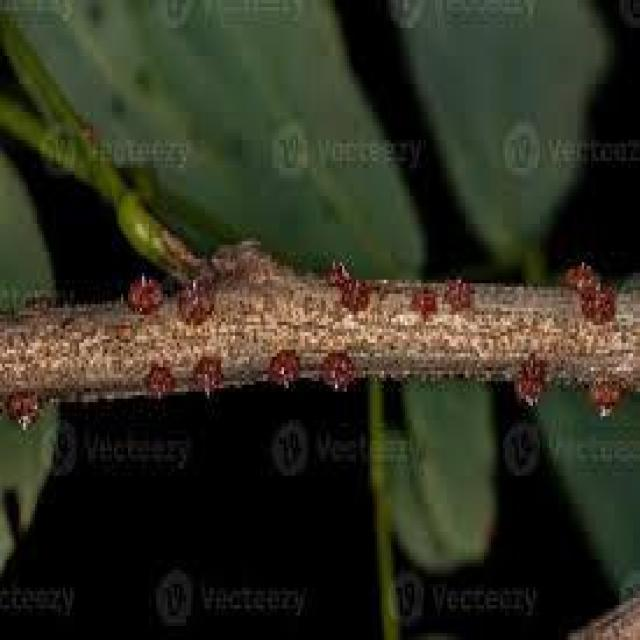BlackScale: (561, 258, 617, 332), (587, 364, 626, 422), (326, 256, 366, 311), (512, 353, 549, 408), (191, 351, 228, 402), (177, 270, 210, 325), (321, 353, 356, 392), (126, 278, 161, 316), (268, 353, 298, 391), (5, 392, 38, 426), (144, 364, 174, 395)
